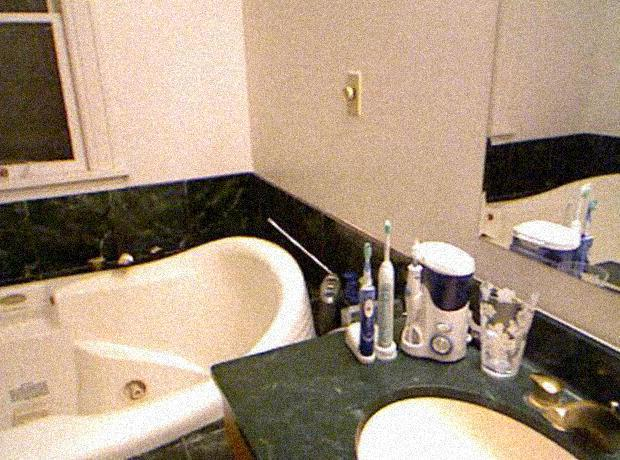Lavamanos: (340, 357, 611, 459)
